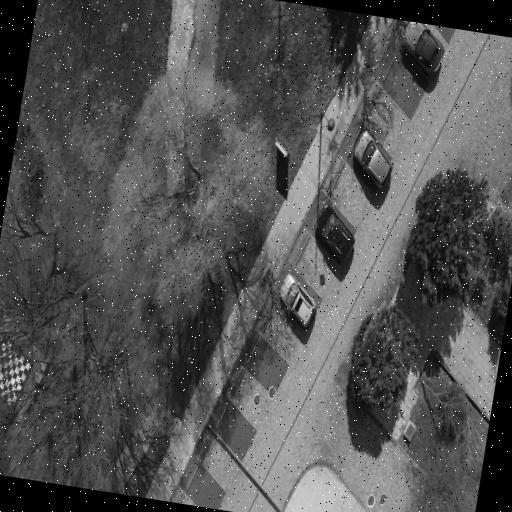car: (355, 130, 392, 190), (317, 204, 354, 263), (402, 22, 443, 73), (280, 274, 316, 325)
